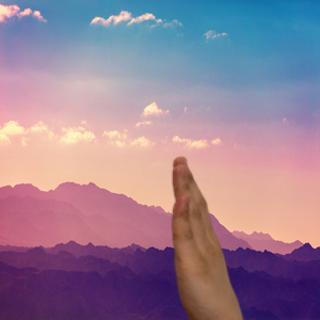RIGHT: (158, 148, 239, 320)
